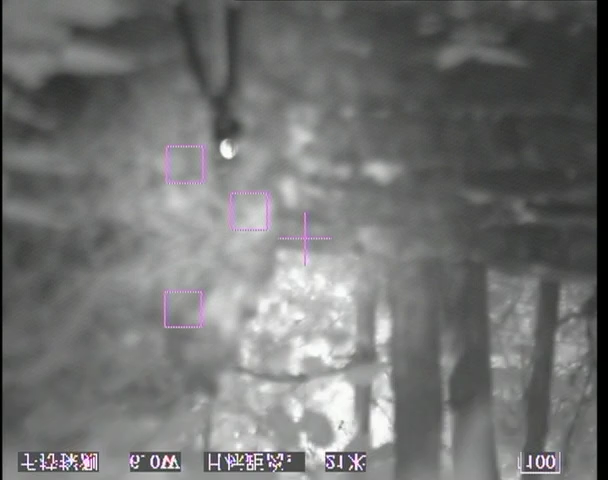my: (217, 138, 239, 161)
